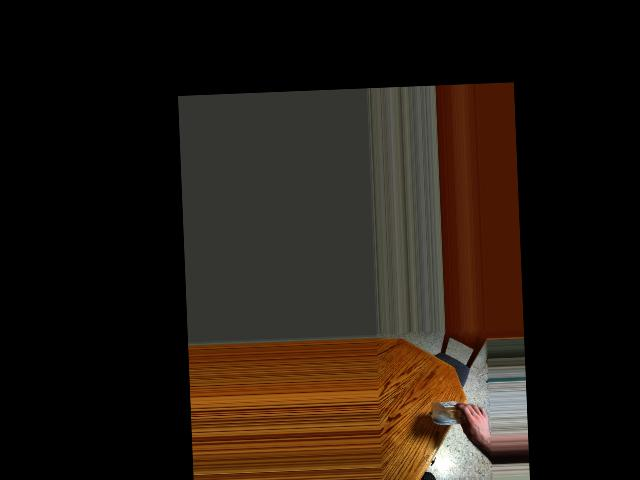cheese: (433, 392, 479, 433)
